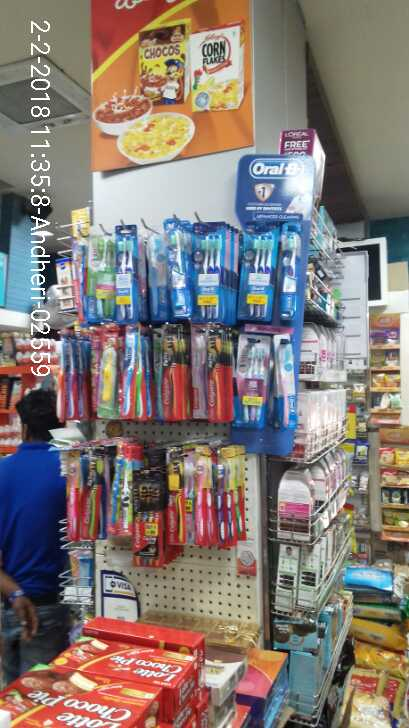oralb: (231, 231, 276, 322), (193, 229, 231, 313), (86, 228, 112, 331), (280, 230, 307, 316), (166, 233, 190, 325), (111, 225, 132, 318)
